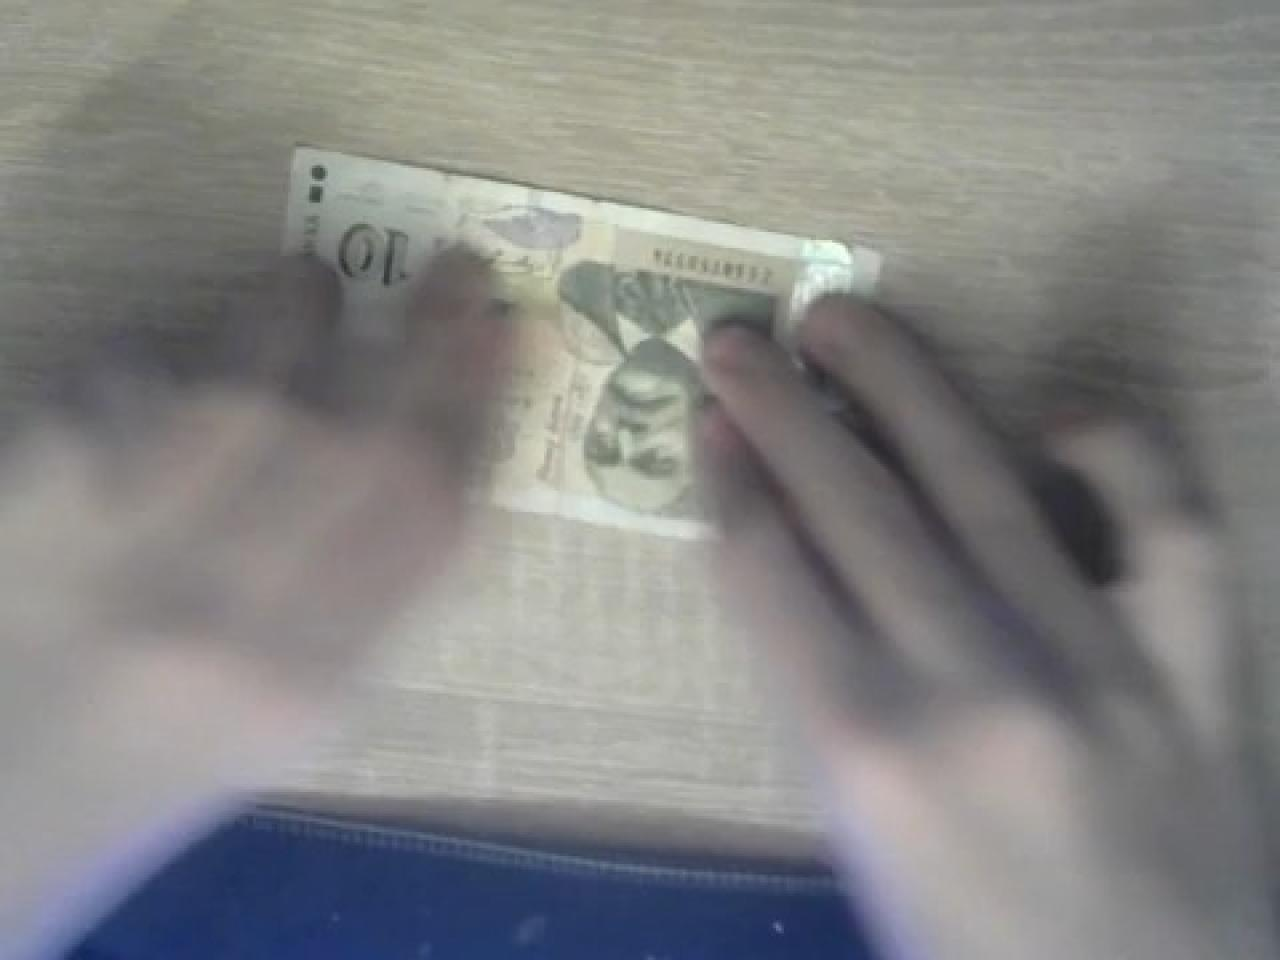10leva: (277, 144, 880, 547)
